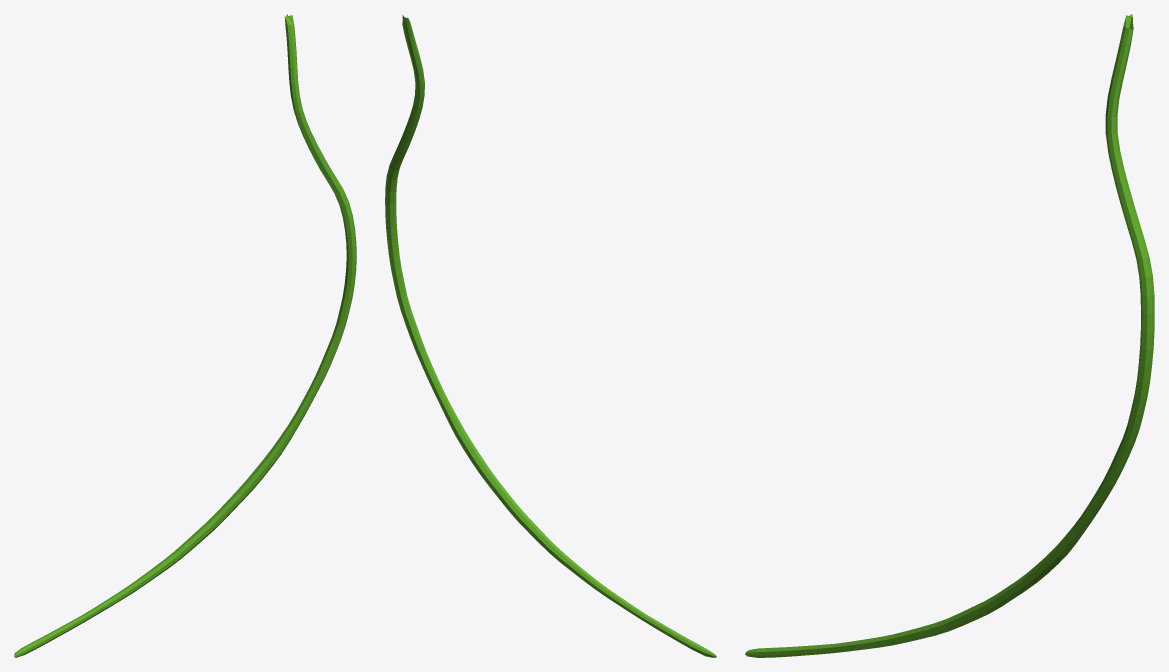
Rendered from Hypoglossal_nerve_L.glb.
The picture shows the model from 3 angles, left to right: view 1: azimuth 30°, elevation 25°; view 2: azimuth 150°, elevation 25°; view 3: azimuth 330°, elevation 25°; orthographic projection. The views are drawn at different scales.
Visible parts, largest first — view 1: Hypoglossal_nerve_L; view 2: Hypoglossal_nerve_L; view 3: Hypoglossal_nerve_L.
Part boxes in pixels (box(x1,y1,x2,y2)): Hypoglossal_nerve_L: box(14, 14, 356, 657); Hypoglossal_nerve_L: box(385, 14, 716, 657); Hypoglossal_nerve_L: box(745, 14, 1154, 657).
Size of the model in its own units: 0.1842 by 0.2994 by 0.0281.
Materials: 1 (1 with a texture image).
